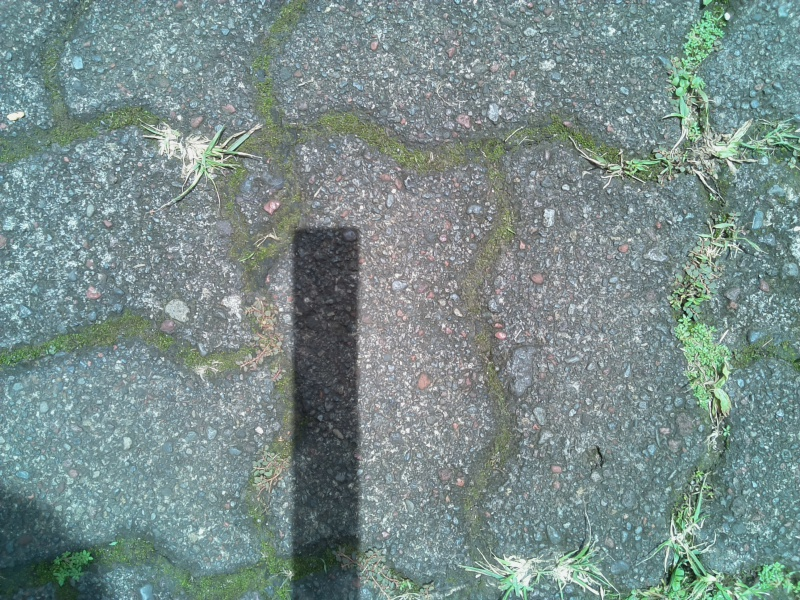Weed: (135, 115, 250, 201), (672, 308, 750, 422), (669, 103, 761, 184), (470, 542, 610, 595), (661, 485, 713, 580), (571, 133, 653, 185), (674, 2, 726, 77), (693, 218, 758, 277), (46, 546, 99, 588)
